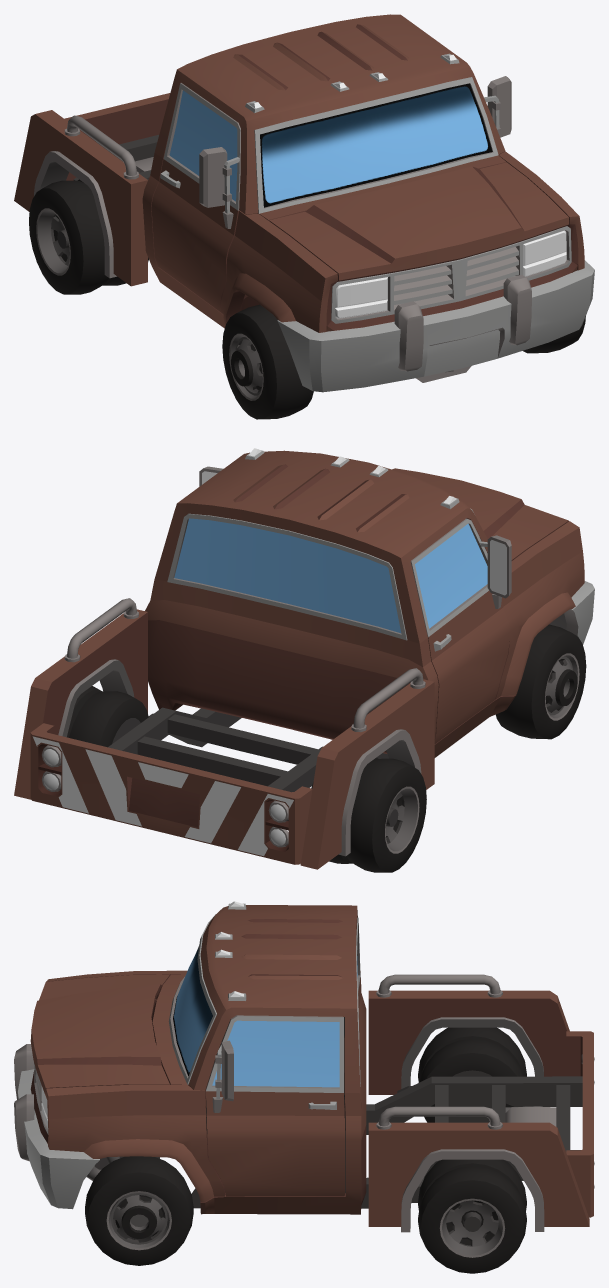
File: vehicle_03.fbx
3 renders of one model, top to bottom at view 1: azimuth 30°, elevation 25°; view 2: azimuth 150°, elevation 25°; view 3: azimuth 270°, elevation 25°, orthographic. The views are drawn at different scales.
Parts seen in each view (by area): view 1: Stage_205, Stage_201, Stage_101, Stage_206, Stage_204, Stage_304, Stage_302, Stage_202, Stage_203, Stage_301; view 2: Stage_101, Stage_205, Stage_202, Stage_204, Stage_304, Stage_302, Stage_206, Stage_303, Stage_201; view 3: Stage_101, Stage_203, Stage_205, Stage_206, Stage_303, Stage_301, Stage_201, Stage_304, Stage_202, Stage_103.
Boxes of the visible parts, x1,y1,x2,y2 form: Stage_205: (154,14,505,214); Stage_201: (277,226,594,392); Stage_101: (14,110,584,332); Stage_206: (269,162,569,281); Stage_204: (151,83,240,312); Stage_304: (29,179,148,294); Stage_302: (222,304,313,419); Stage_202: (64,93,170,180); Stage_203: (484,76,511,137); Stage_301: (523,316,585,353); Stage_101: (14,521,584,869); Stage_205: (154,448,487,643); Stage_202: (30,723,312,864); Stage_204: (410,518,511,743); Stage_304: (311,757,426,872); Stage_302: (496,624,586,739); Stage_206: (392,468,568,560); Stage_303: (67,686,148,747); Stage_201: (549,581,594,644); Stage_101: (45,970,589,1232); Stage_203: (206,1015,344,1196); Stage_205: (168,901,360,1093); Stage_206: (30,974,169,1094); Stage_303: (418,1159,526,1273); Stage_301: (85,1156,193,1265); Stage_201: (14,1044,99,1209); Stage_304: (418,1027,526,1122); Stage_202: (566,1031,594,1217); Stage_103: (505,1106,556,1180).
Bounding box in the file's own units: 130 × 96.23 × 198.
